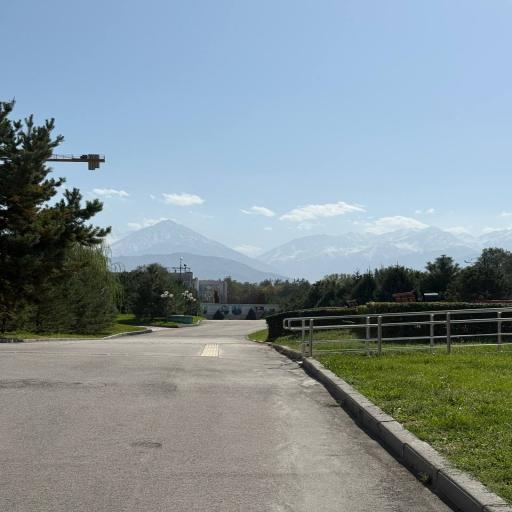construction_fence: (301, 358, 511, 511)
shelf: (0, 320, 457, 512)
